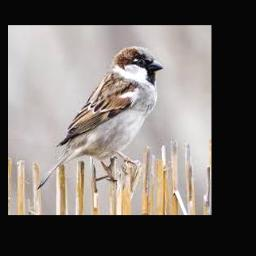Sparrow: (37, 45, 164, 189)
